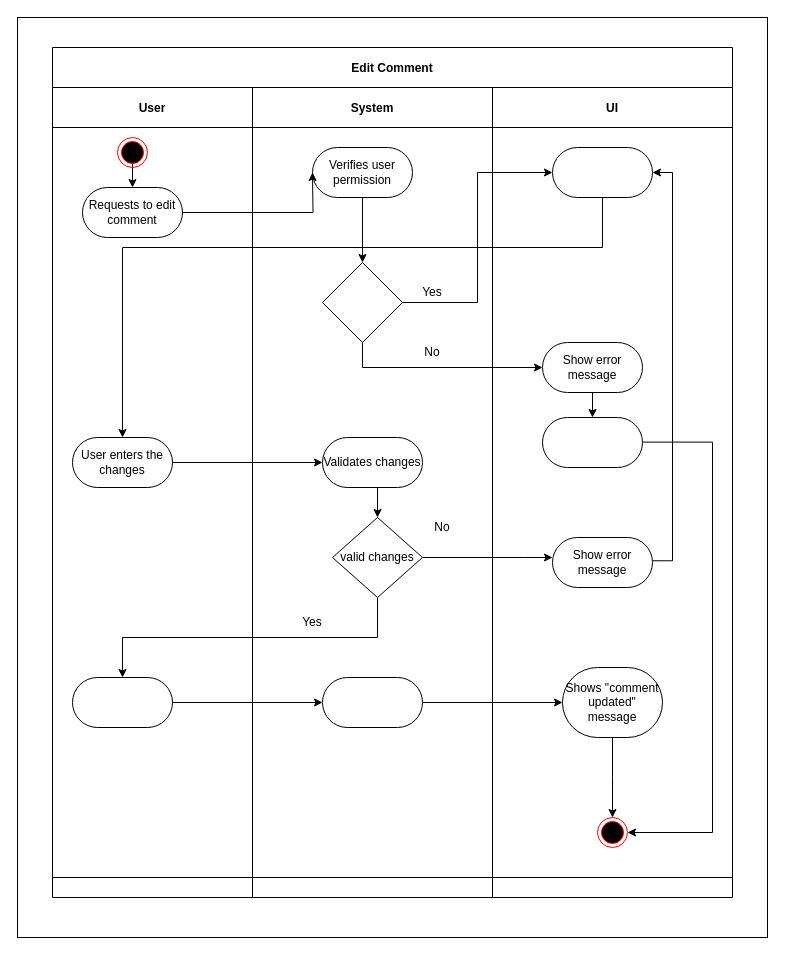
The diagram is 785 pixels wide and 955 high, and some of its shapes have lost their labels. The shapes that lost their labels are listed below. From the top down, each one's centre as x and y in pixels, then its label:
point 602,172: Displays edit form
point 362,302: authoried person
point 592,442: Views post
point 122,702: User clicks "update" button
point 372,702: Updates comment
